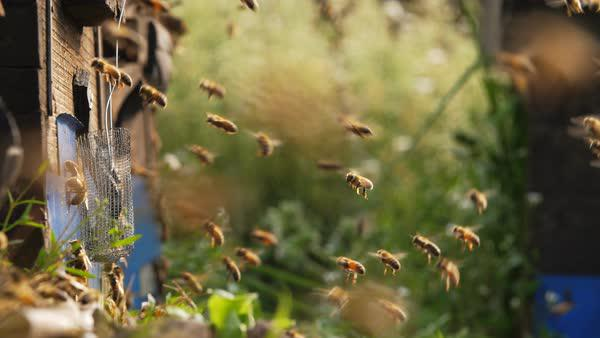bee: (139, 85, 168, 108), (65, 179, 89, 204), (413, 236, 441, 257), (379, 299, 406, 320), (453, 225, 481, 245), (439, 262, 460, 286), (112, 267, 126, 303), (207, 116, 237, 132), (223, 256, 241, 282), (336, 257, 365, 273), (584, 134, 600, 162), (183, 272, 202, 295), (468, 189, 488, 210), (378, 250, 400, 269), (347, 174, 373, 190), (199, 81, 224, 97), (206, 223, 224, 245), (238, 247, 260, 264), (65, 161, 85, 179), (251, 231, 275, 245), (258, 134, 273, 155), (345, 125, 373, 135), (192, 144, 209, 160), (565, 0, 584, 14), (585, 116, 600, 133), (242, 0, 259, 11), (590, 0, 600, 11)
pollenbee: (91, 60, 121, 80), (109, 68, 133, 87)
